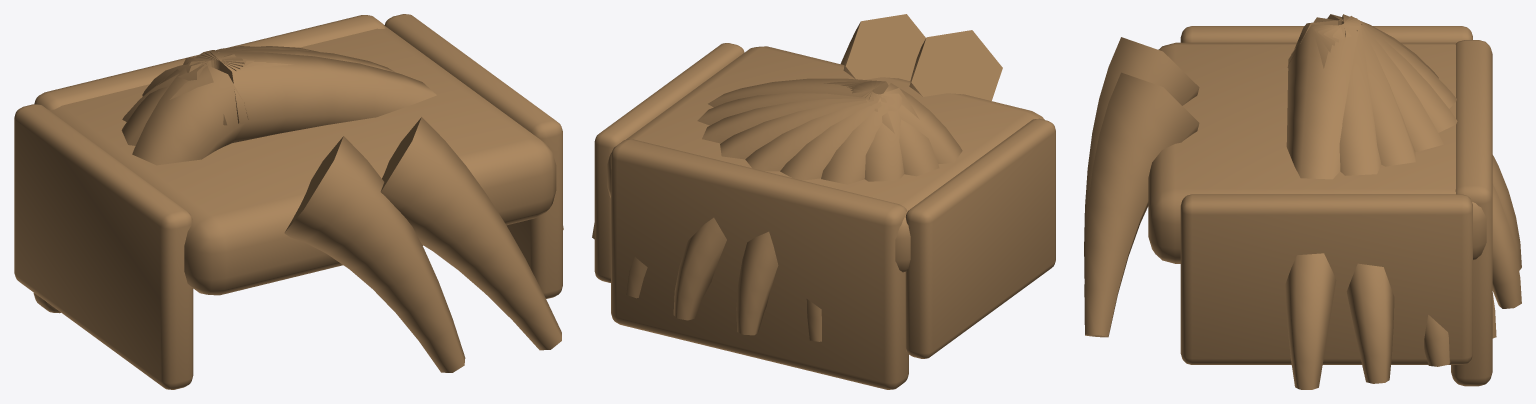
Rendered from hair-side-brown.glb.
3 views of the same model, side by side, from view 1: azimuth 30°, elevation 25°; view 2: azimuth 150°, elevation 25°; view 3: azimuth 270°, elevation 25° (orthographic). The views are drawn at different scales.
Visible parts, largest first — view 1: hair_scalp, hair_scalp_s-1, hair_lock_0.001, hair_lock_1.001, hair_lock_0, hair_scalp_s1, hair_lock_9, hair_scalp_b, hair_lock_8, hair_lock_1, hair_lock_7, hair_lock_2; view 2: hair_scalp_b, hair_scalp_s-1, hair_scalp, hair_scalp_s1, hair_lock_4, hair_lock_5, hair_lock_0.001, hair_lock_1.001, hair_lock_3, hair_lock_6, hair_lock_2, hair_lock_7 (+4 smaller); view 3: hair_scalp_s1, hair_scalp, hair_lock_1.001, hair_lock_0, hair_scalp_b, hair_lock_1, hair_lock_4, hair_lock_2, hair_lock_0.001, hair_scalp_s-1, hair_lock_3, hair_lock_5.
Boxes of the visible parts, x1=… form: hair_scalp: x1=49, y1=26, x2=556, y2=295; hair_scalp_s-1: x1=14, y1=104, x2=193, y2=389; hair_lock_0.001: x1=284, y1=136, x2=465, y2=372; hair_lock_1.001: x1=380, y1=117, x2=561, y2=350; hair_lock_0: x1=210, y1=52, x2=563, y2=229; hair_scalp_s1: x1=384, y1=14, x2=562, y2=298; hair_lock_9: x1=132, y1=59, x2=245, y2=165; hair_scalp_b: x1=33, y1=15, x2=385, y2=313; hair_lock_8: x1=121, y1=61, x2=226, y2=145; hair_lock_1: x1=205, y1=49, x2=396, y2=120; hair_lock_7: x1=122, y1=52, x2=219, y2=121; hair_lock_2: x1=200, y1=46, x2=318, y2=69; hair_scalp_b: x1=611, y1=139, x2=908, y2=389; hair_scalp_s-1: x1=905, y1=118, x2=1055, y2=358; hair_scalp: x1=607, y1=46, x2=1044, y2=272; hair_scalp_s1: x1=594, y1=43, x2=744, y2=282; hair_lock_4: x1=673, y1=82, x2=878, y2=320; hair_lock_5: x1=736, y1=84, x2=886, y2=335; hair_lock_0.001: x1=909, y1=30, x2=1002, y2=100; hair_lock_1.001: x1=840, y1=14, x2=925, y2=80; hair_lock_3: x1=626, y1=81, x2=873, y2=298; hair_lock_6: x1=806, y1=89, x2=895, y2=341; hair_lock_2: x1=702, y1=80, x2=876, y2=143; hair_lock_7: x1=856, y1=93, x2=904, y2=181; hair_scalp_s1: x1=1180, y1=194, x2=1472, y2=364; hair_scalp: x1=1148, y1=42, x2=1486, y2=263; hair_lock_1.001: x1=1084, y1=72, x2=1199, y2=337; hair_lock_0: x1=1285, y1=24, x2=1359, y2=389; hair_scalp_b: x1=1451, y1=40, x2=1492, y2=386; hair_lock_1: x1=1288, y1=24, x2=1394, y2=383; hair_lock_4: x1=1323, y1=18, x2=1521, y2=308; hair_lock_2: x1=1314, y1=22, x2=1450, y2=366; hair_lock_0.001: x1=1084, y1=37, x2=1199, y2=278; hair_scalp_s-1: x1=1180, y1=26, x2=1472, y2=42; hair_lock_3: x1=1318, y1=20, x2=1496, y2=338; hair_lock_5: x1=1332, y1=16, x2=1521, y2=270.
Bounding box in the file's own units: 0.385 × 0.2209 × 0.3386.
